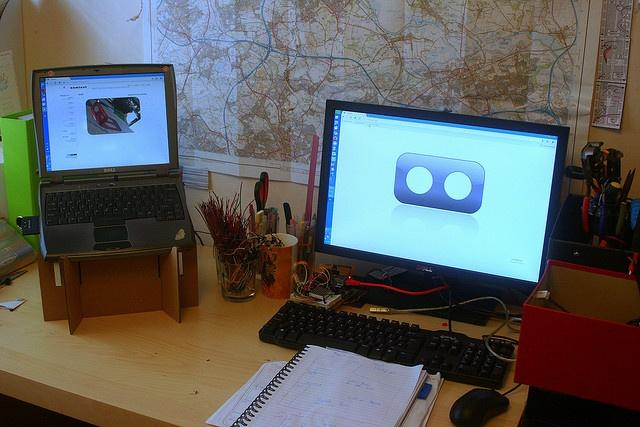AIO PC-Monitor-TV: (313, 97, 570, 295)
